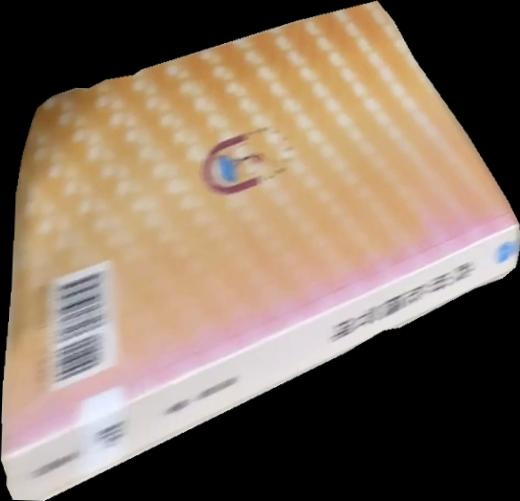flat: (1, 1, 520, 501)
